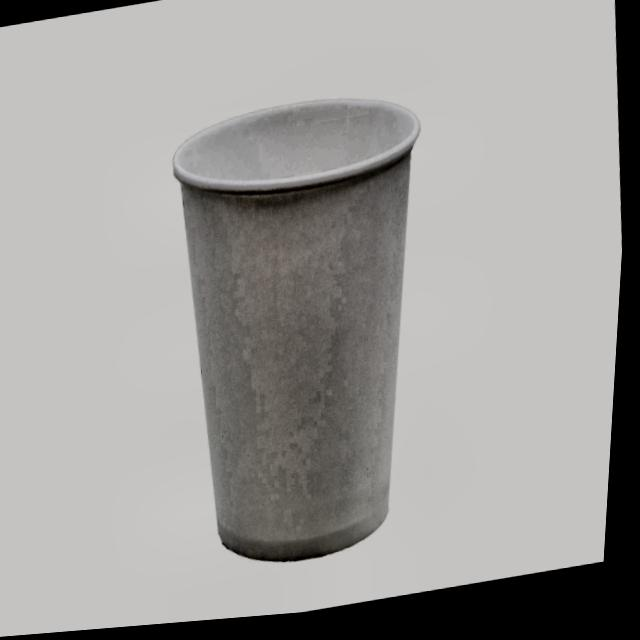Cup: (144, 82, 458, 593)
